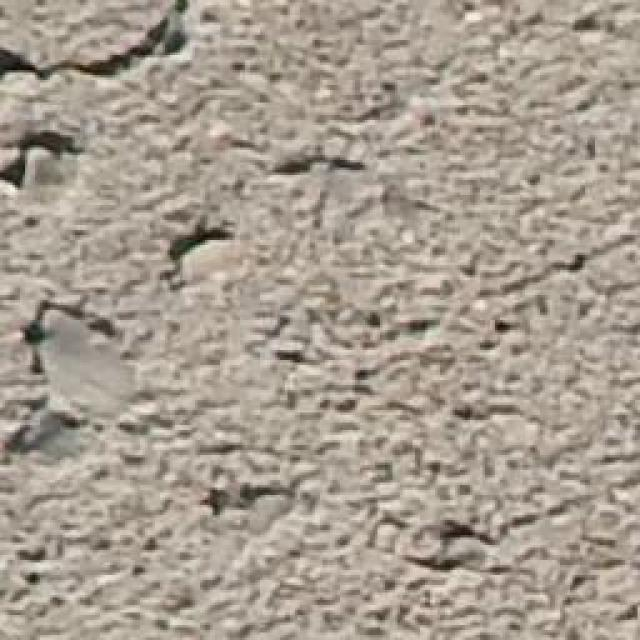concrete-crack: (0, 0, 196, 85), (20, 292, 131, 377), (4, 120, 88, 191), (163, 221, 241, 284)
